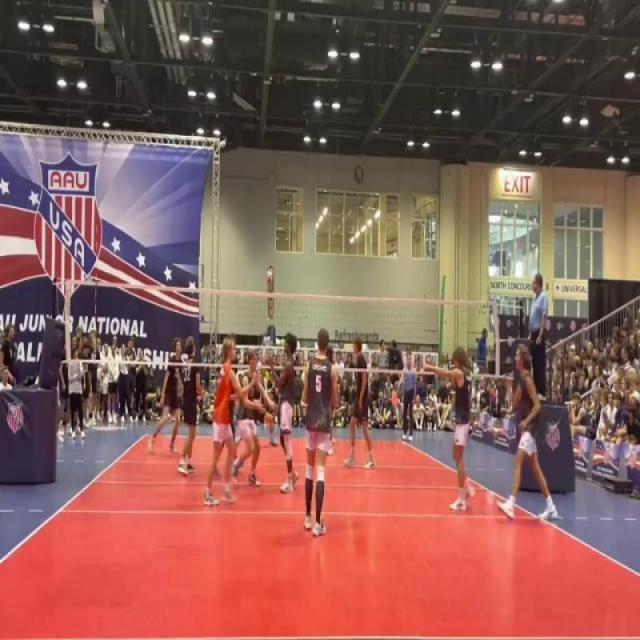volleyball: (265, 270, 274, 286)
